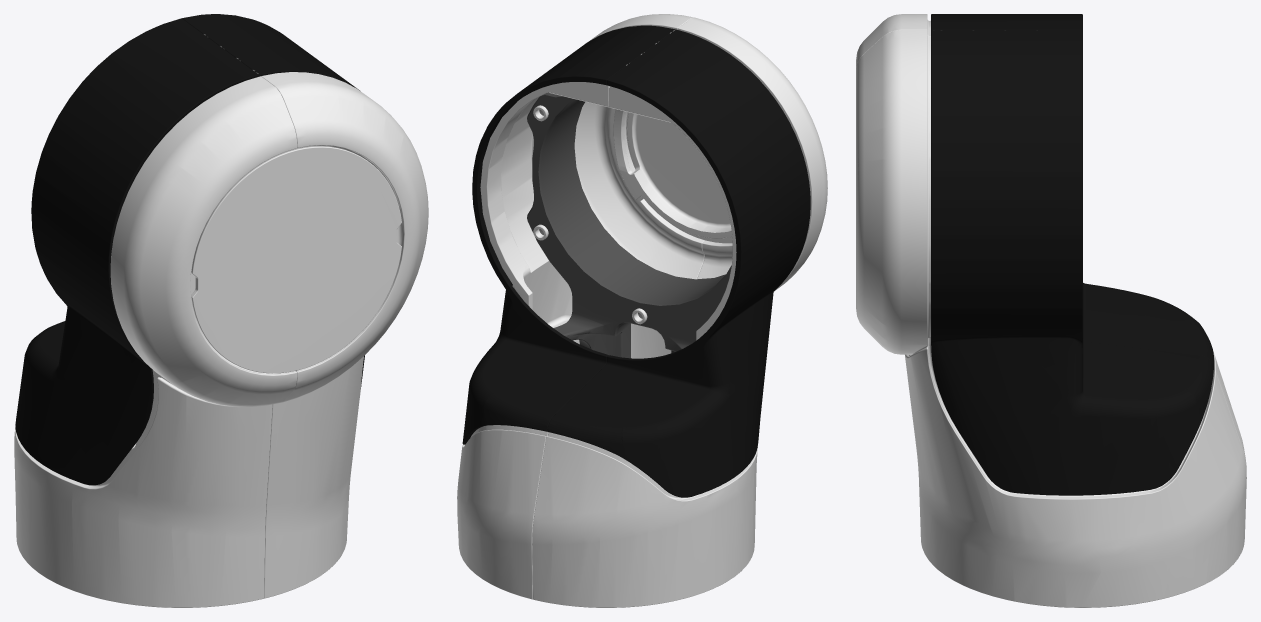
File: link_left_lower_arm.glb
3 views of the same model, side by side, from view 1: azimuth 30°, elevation 25°; view 2: azimuth 150°, elevation 25°; view 3: azimuth 270°, elevation 25° (orthographic). The views are drawn at different scales.
Visible parts, largest first — view 1: link_left_lower_arm; view 2: link_left_lower_arm; view 3: link_left_lower_arm.
Part boxes in pixels (box(x1,y1,x2,y2)): link_left_lower_arm: box(14, 14, 428, 607); link_left_lower_arm: box(457, 14, 827, 607); link_left_lower_arm: box(856, 14, 1246, 607).
Size of the model in its own units: 0.1 by 0.165 by 0.1146.
Materials: 1 (1 with a texture image).
